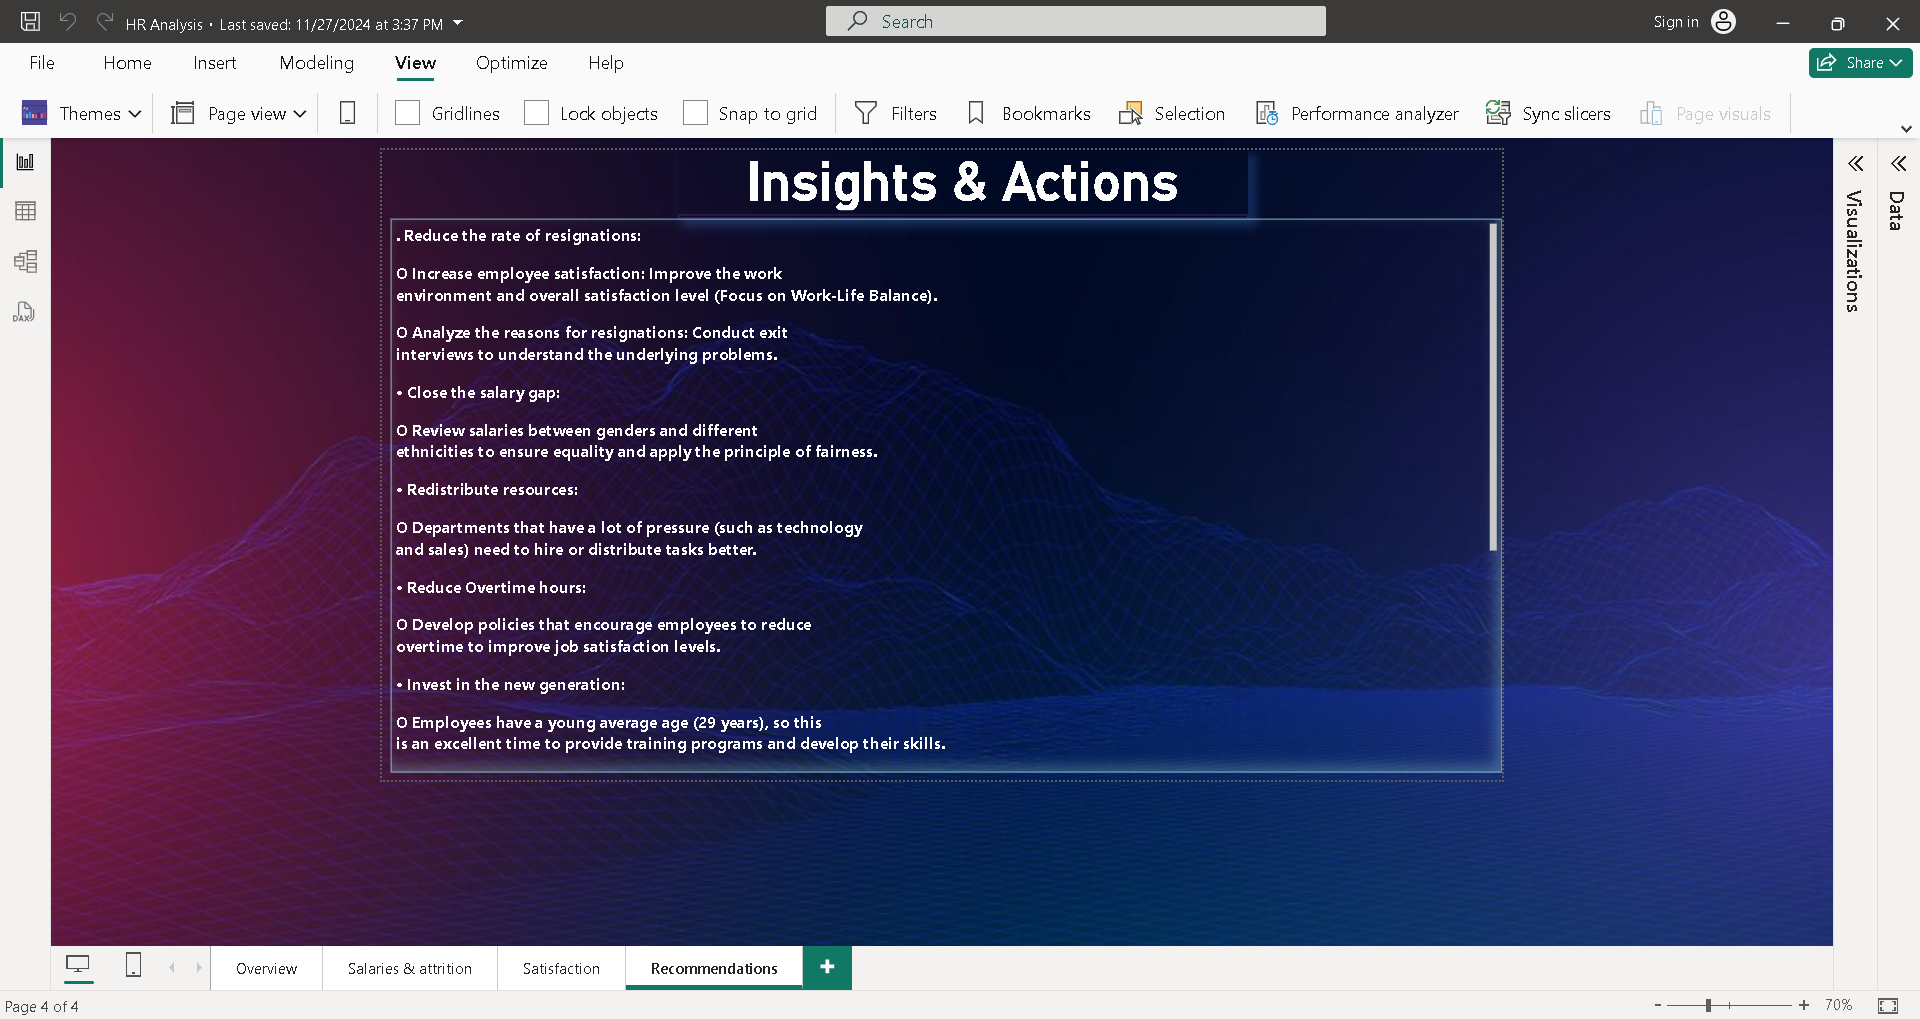

What the dashboard file says about the page in this screenshot:
{"tool":"powerbi","page":{"name":"Recommendations","canvas":[1280,720],"ordinal":3},"visuals":[{"type":"shape","title":"Insights & Actions","box":[338.6,0,651.4,78.6],"z":0},{"type":"textbox","box":[10,78.8,1270,632.5],"z":1000}]}

Visuals, with their boxes on the page's 1280x720 design canvas (x1, y1, x2, y2). These are canvas units, not pixel positions in the 1920x1019 screenshot, which may show the page scaled, cropped or inside an application window:
"Insights & Actions" shape: 339,0,990,79
textbox: 10,79,1280,711
